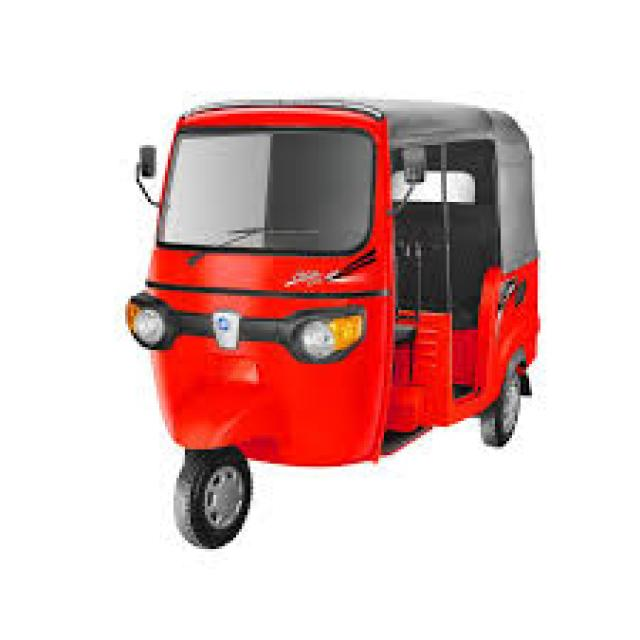tuktuk: (57, 50, 575, 579)
